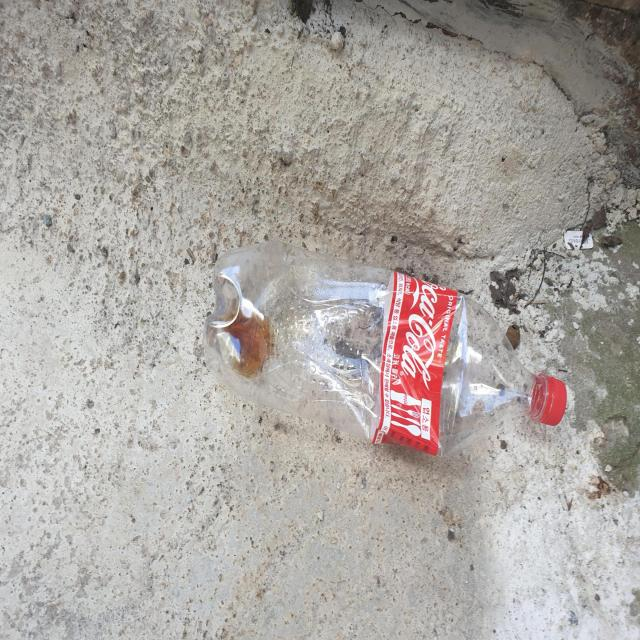plastic: (204, 241, 568, 456)
